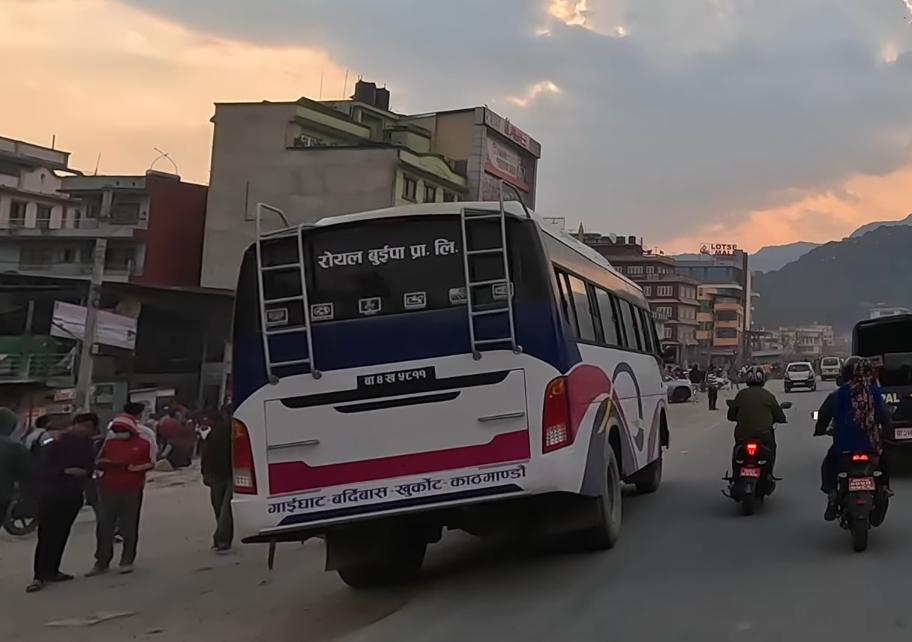bus: (218, 181, 688, 575)
